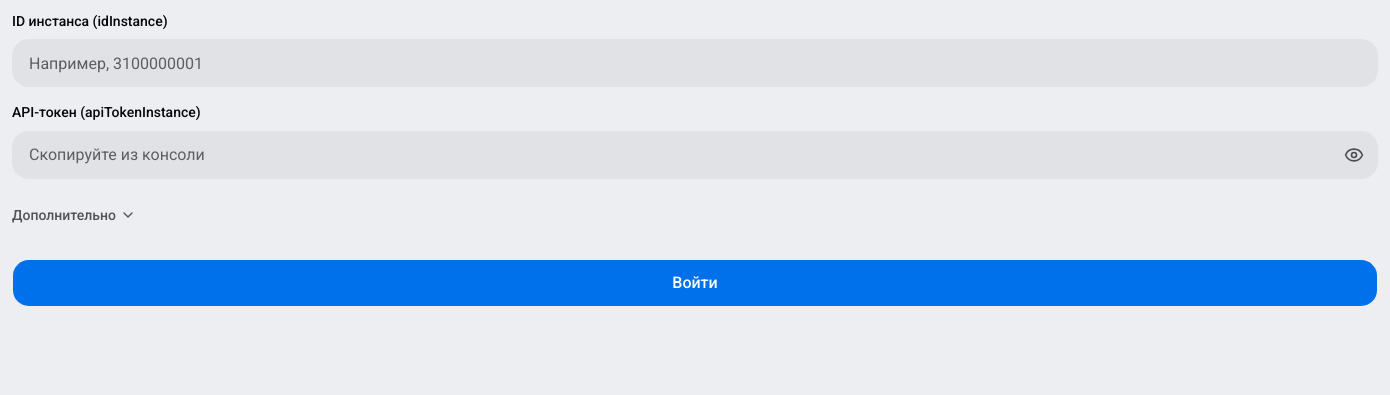
LoginForm › explains that only MAX and WhatsApp instances work
Type "7700000001" into the field labelled "ID инстанса (idInstance)" at (695, 63), box [12,39,1378,87]
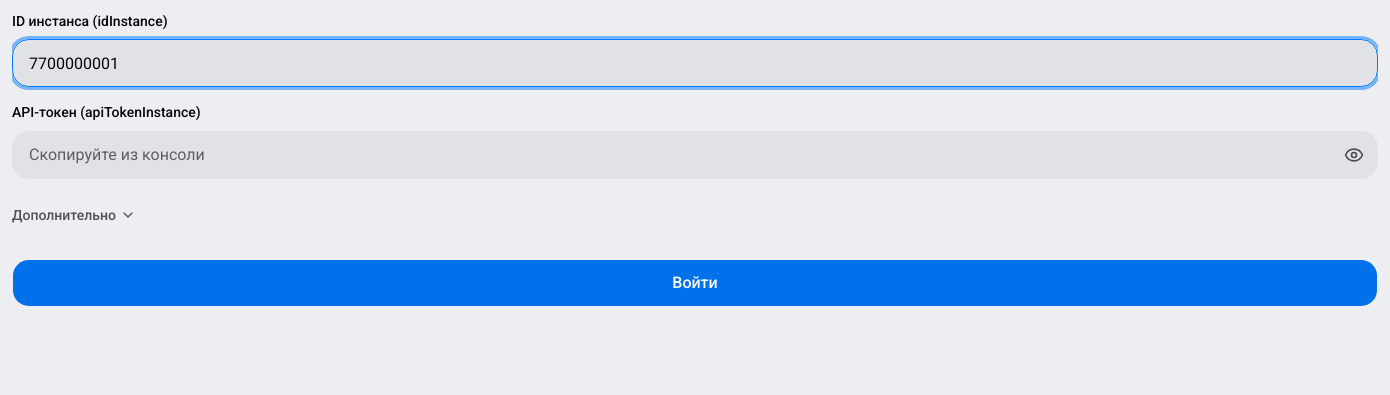
Type "tok" into the password field labelled "API-токен (apiTokenInstance)" at (695, 154), box [12,130,1378,178]
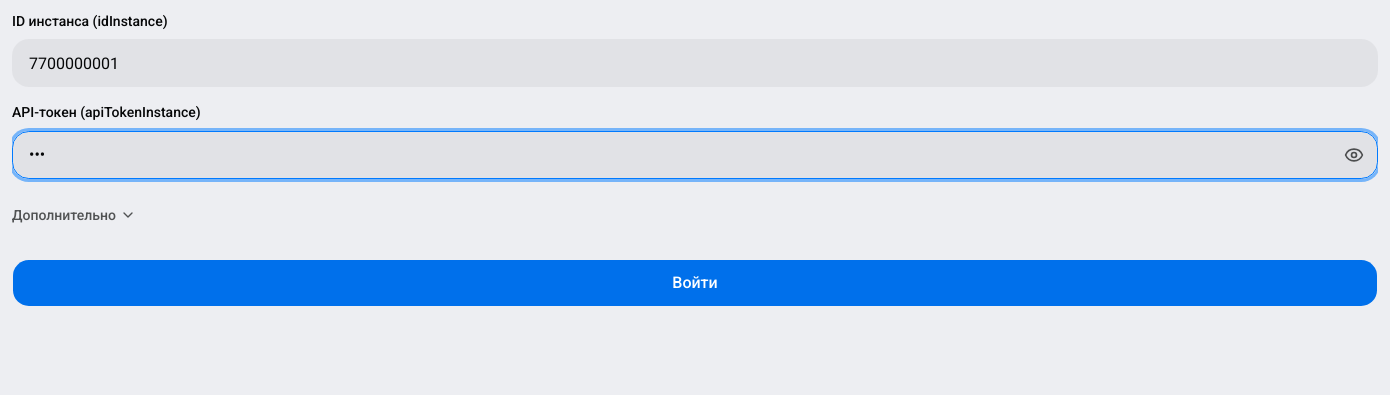
Click the button "Войти" at (695, 282), box [12,258,1378,306]
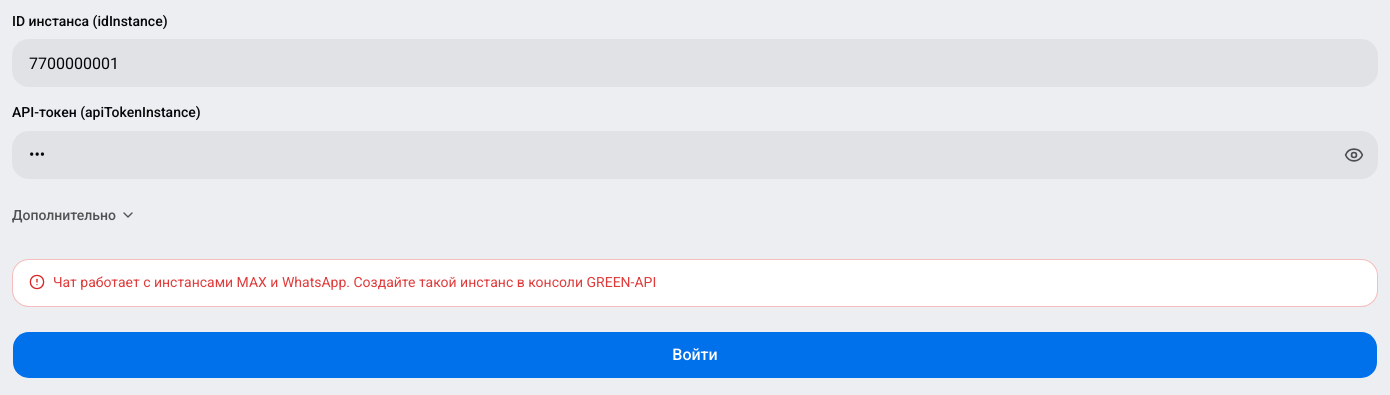
Result: the message shows "Чат работает с инстансами MAX и WhatsApp" at [53,274,656,290]
